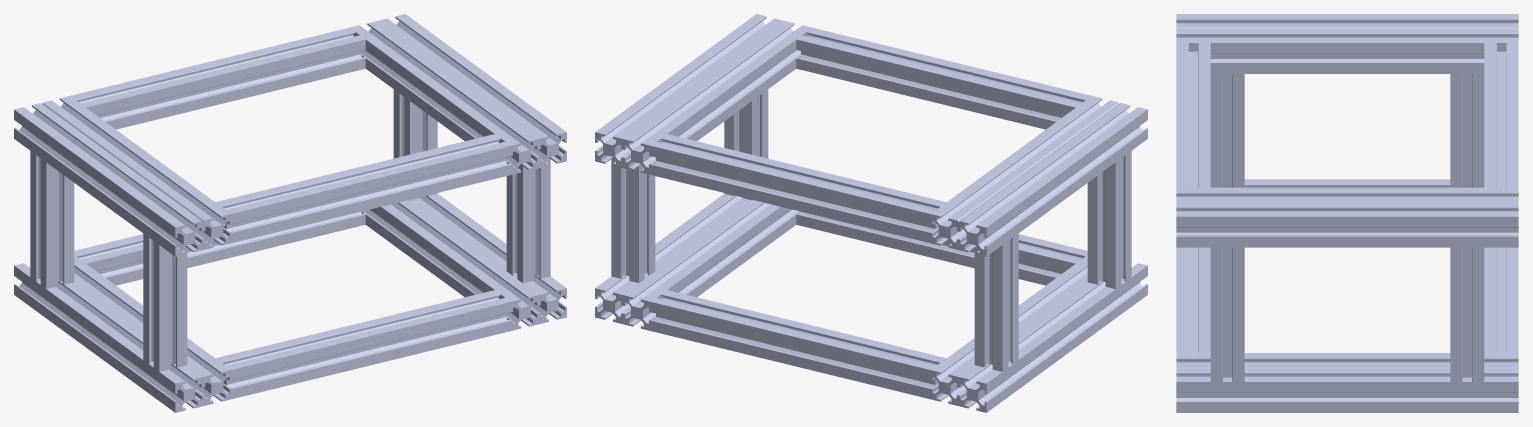
The model's file is chassis.dae.
3 renders of one model, left to right at view 1: azimuth 30°, elevation 25°; view 2: azimuth 150°, elevation 25°; view 3: azimuth 270°, elevation 25°, orthographic. The views are drawn at different scales.
Visible parts, largest first — view 1: 66b377c65b17df31d5ac4593 (×16); view 2: 66b377c65b17df31d5ac4593 (×16); view 3: 66b377c65b17df31d5ac4593 (×15).
Part boxes in pixels (x1=…): 66b377c65b17df31d5ac4593 (×16): x1=14, y1=14, x2=566, y2=412; 66b377c65b17df31d5ac4593 (×16): x1=595, y1=14, x2=1147, y2=412; 66b377c65b17df31d5ac4593 (×15): x1=1176, y1=14, x2=1518, y2=412.
Bounding box in the file's own units: 0.42 × 0.3 × 0.19.
